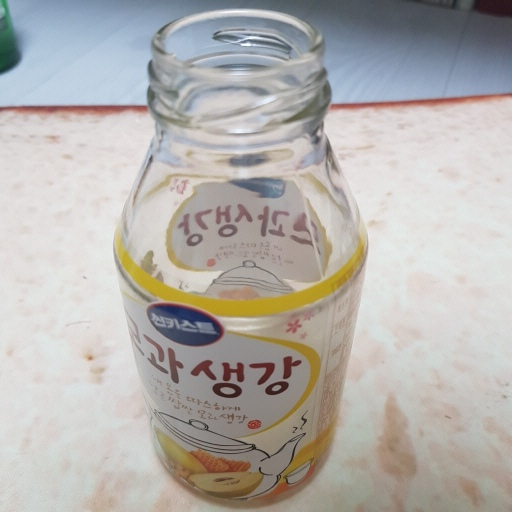Glass_4: (104, 8, 371, 502)
